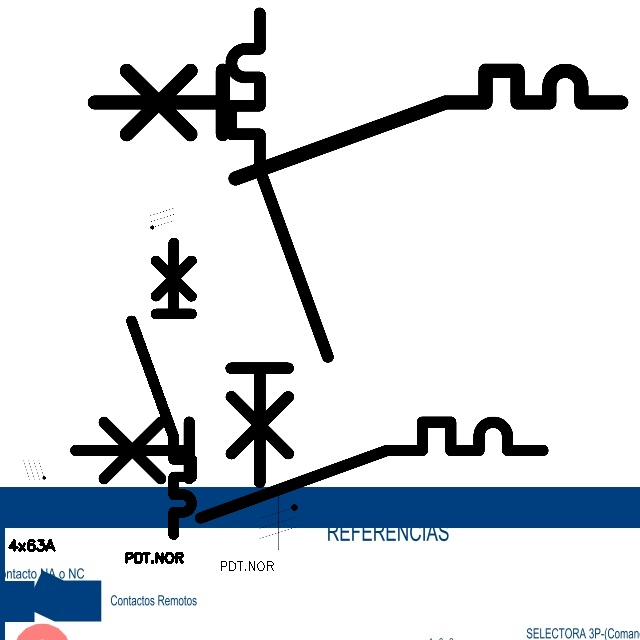interruptor_termomagnetico: (81, 57, 635, 192), (219, 1, 340, 494), (63, 410, 554, 530), (124, 235, 199, 541)
